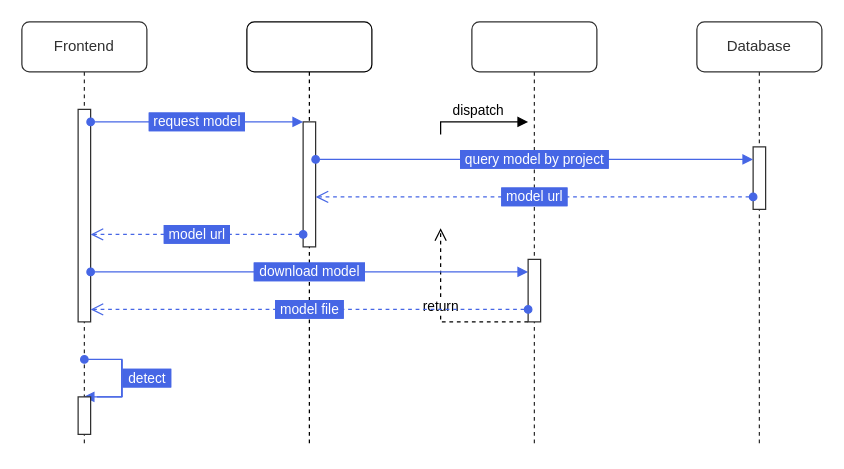
Some shapes in this 844 by 469 pixel diagram are drawn without their labels. The centre of each missing label's shape, as x and y in pixels:
Backend: pixel 309 234
Storage: pixel 534 234
